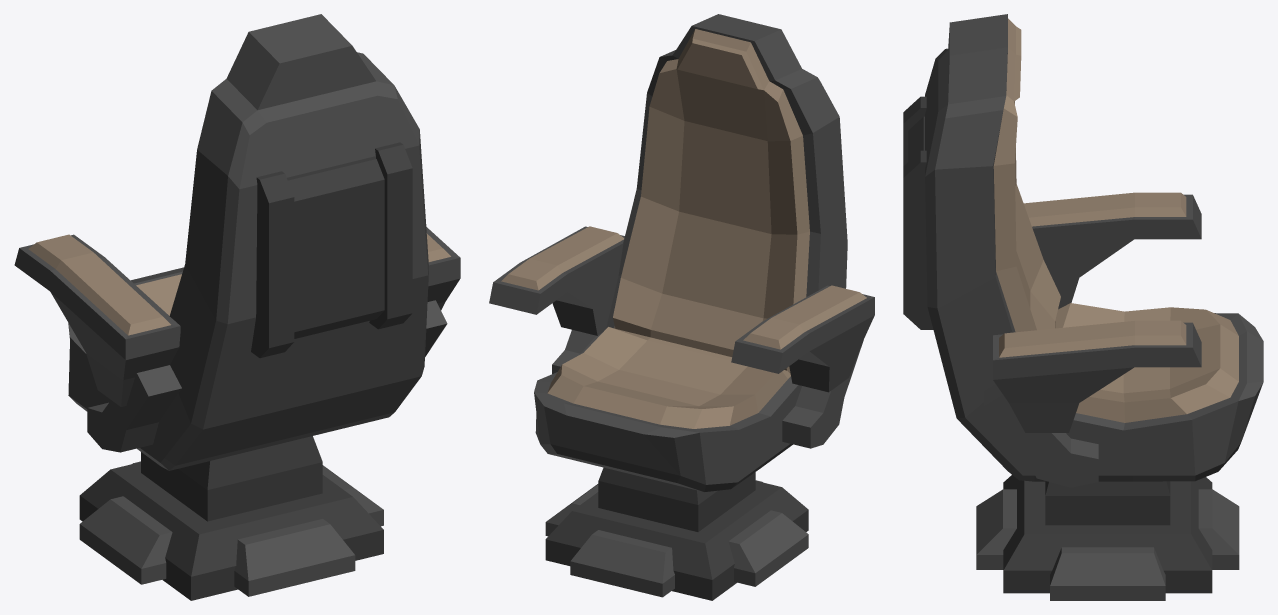
The model's file is SM_Bld_Bridge_Chair_01.fbx.
3 views of the same model, side by side, from view 1: azimuth 30°, elevation 25°; view 2: azimuth 150°, elevation 25°; view 3: azimuth 270°, elevation 25° (orthographic). The views are drawn at different scales.
Visible parts, largest first — view 1: SM_Bld_Bridge_Chair_01_LOD0; view 2: SM_Bld_Bridge_Chair_01_LOD0; view 3: SM_Bld_Bridge_Chair_01_LOD0.
Boxes of the visible parts, x1,y1,x2,y2 form: SM_Bld_Bridge_Chair_01_LOD0: (14,14,460,600); SM_Bld_Bridge_Chair_01_LOD0: (489,14,874,600); SM_Bld_Bridge_Chair_01_LOD0: (903,14,1263,600).
Size of the model in its own units: 89.51 by 90.1 by 142.
1 material, 1 textured.
